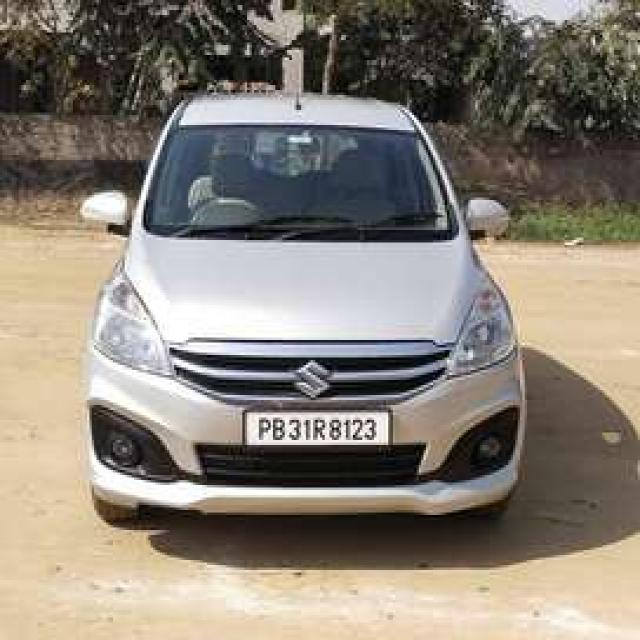Plate: (243, 409, 387, 444)
